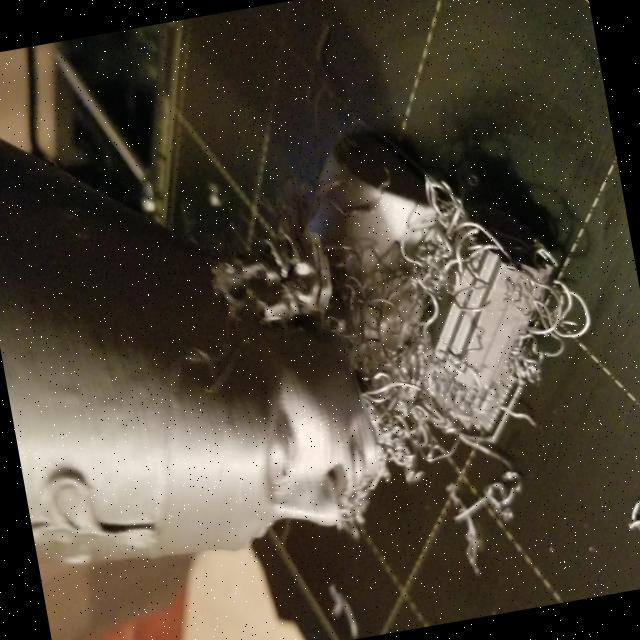blobs: (300, 130, 626, 536), (192, 189, 351, 352)
